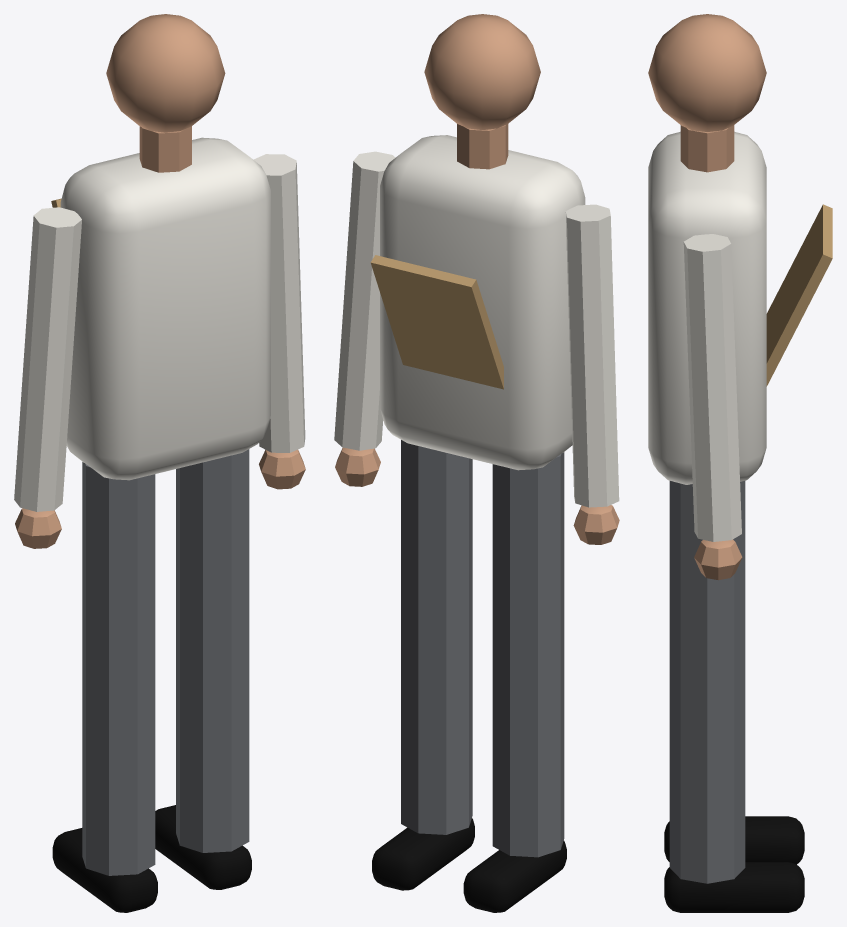
File: people.staff.doctor.glb
The picture shows the model from 3 angles, left to right: view 1: azimuth 30°, elevation 25°; view 2: azimuth 150°, elevation 25°; view 3: azimuth 270°, elevation 25°; orthographic projection. The views are drawn at different scales.
Parts seen in each view (by area): view 1: main__fabric_white, main__fabric_grey, main__skin, main__plastic_black; view 2: main__fabric_white, main__fabric_grey, main__skin, main__plywood, main__plastic_black; view 3: main__fabric_white, main__fabric_grey, main__skin, main__plastic_black, main__plywood.
Part boxes in pixels (<box>): main__fabric_white: <box>14,137,305,511</box>; main__fabric_grey: <box>82,449,249,875</box>; main__skin: <box>15,14,305,548</box>; main__plastic_black: <box>52,805,251,912</box>; main__fabric_white: <box>334,135,619,507</box>; main__fabric_grey: <box>401,440,564,857</box>; main__skin: <box>335,14,619,544</box>; main__plywood: <box>370,255,503,389</box>; main__plastic_black: <box>372,818,566,912</box>; main__fabric_white: <box>648,131,766,541</box>; main__fabric_grey: <box>669,481,745,883</box>; main__skin: <box>648,14,766,580</box>; main__plastic_black: <box>664,816,804,912</box>; main__plywood: <box>766,204,832,386</box>.
Size of the model in its own units: 0.61 by 1.77 by 0.3425.
